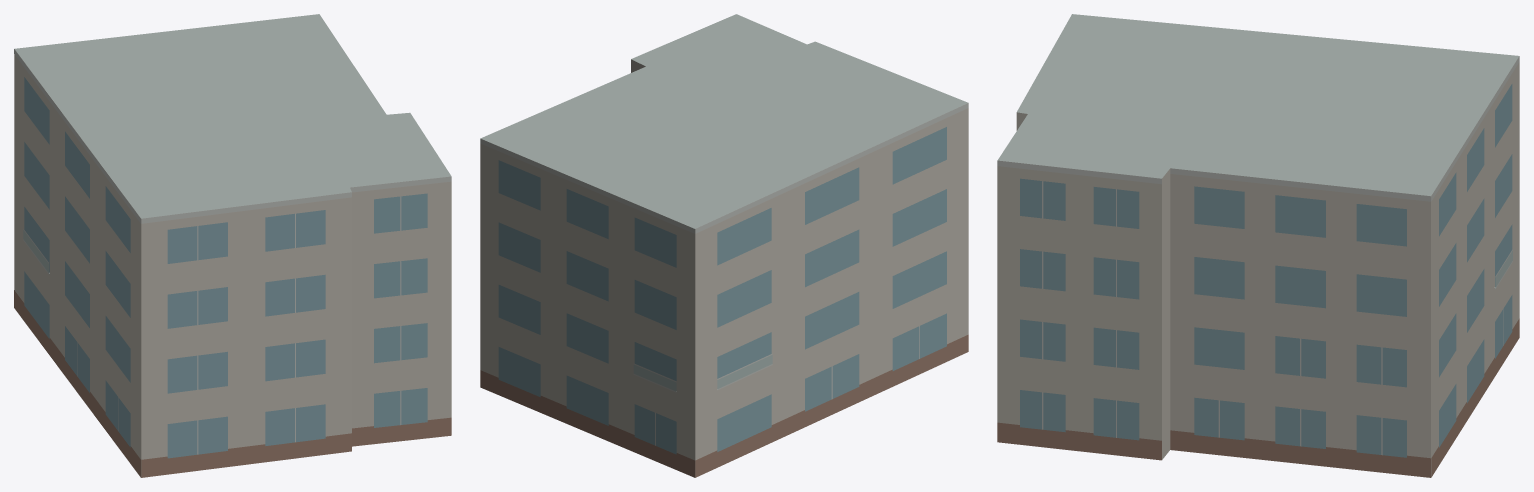
The model's file is survey-upis-32931669.glb.
3 renders of one model, left to right at view 1: azimuth 30°, elevation 25°; view 2: azimuth 150°, elevation 25°; view 3: azimuth 270°, elevation 25°, orthographic. The views are drawn at different scales.
Visible parts, largest first — view 1: survey-upis-32931669.tmp; view 2: survey-upis-32931669.tmp; view 3: survey-upis-32931669.tmp.
Part boxes in pixels (<box>): survey-upis-32931669.tmp: <box>14,14,451,477</box>; survey-upis-32931669.tmp: <box>480,14,968,477</box>; survey-upis-32931669.tmp: <box>997,14,1519,477</box>.
Bounding box in the file's own units: 17.07 × 12.3 × 20.67.
